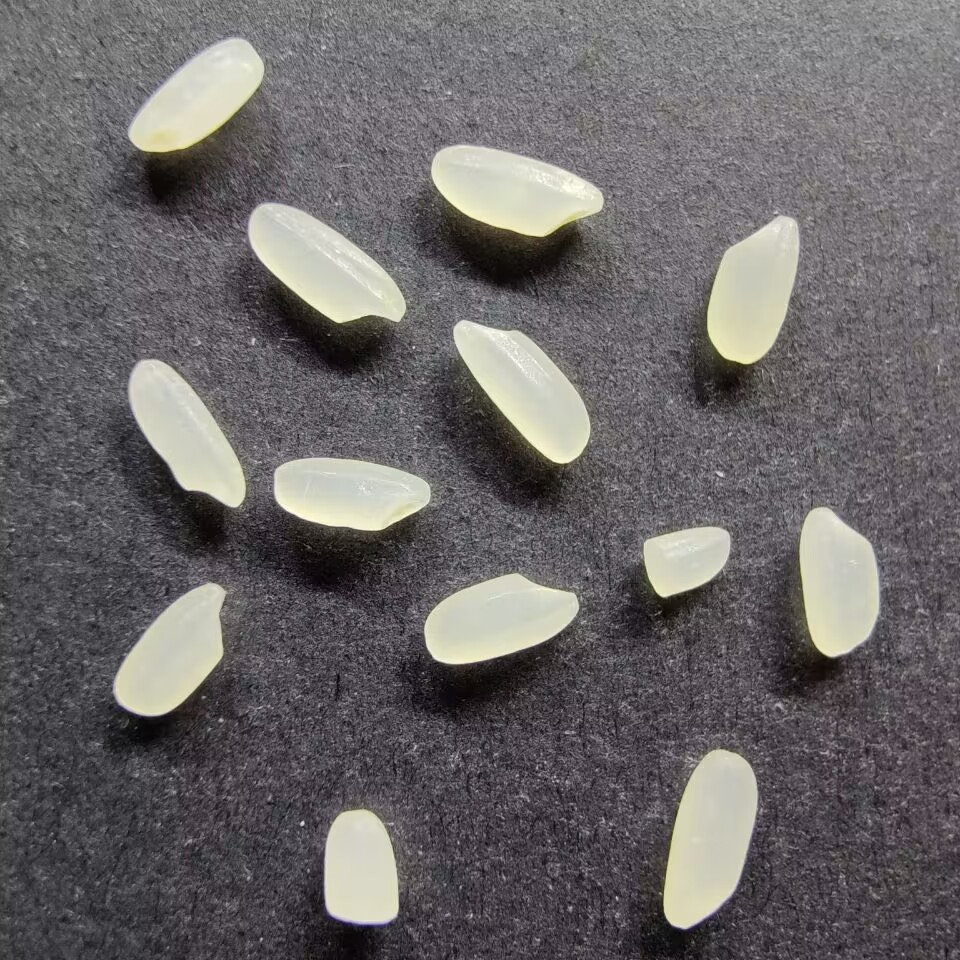broken: (320, 807, 401, 927), (639, 525, 733, 598)
rice: (451, 317, 591, 465), (245, 199, 407, 325), (126, 356, 248, 509), (660, 750, 761, 931), (430, 144, 605, 241), (127, 34, 266, 156), (110, 580, 229, 718), (704, 211, 801, 366), (423, 574, 582, 668), (798, 504, 880, 659), (271, 456, 432, 532)
